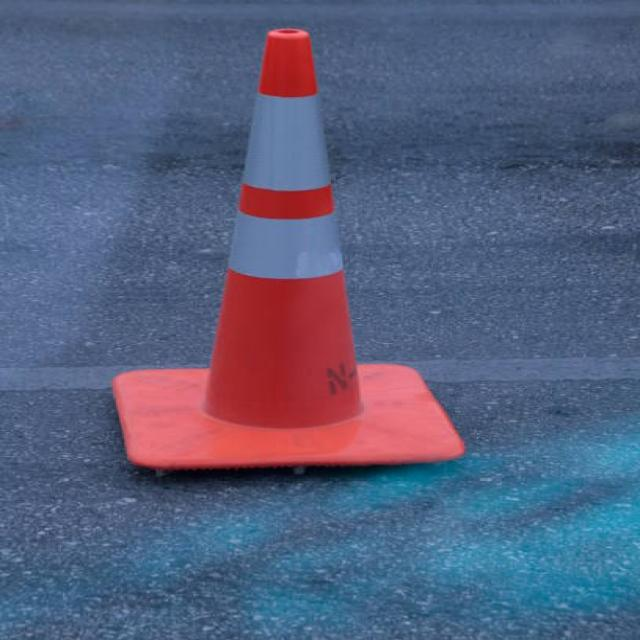Traffic Cone: (39, 5, 536, 507)
